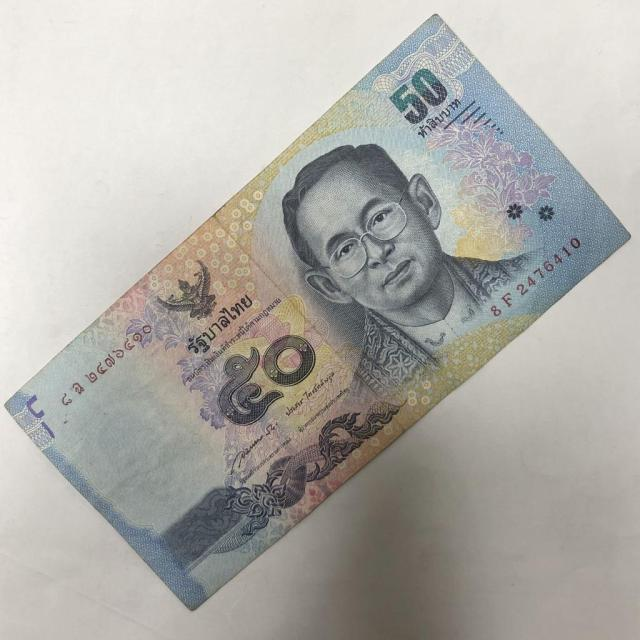THAI50: (6, 15, 629, 608)
